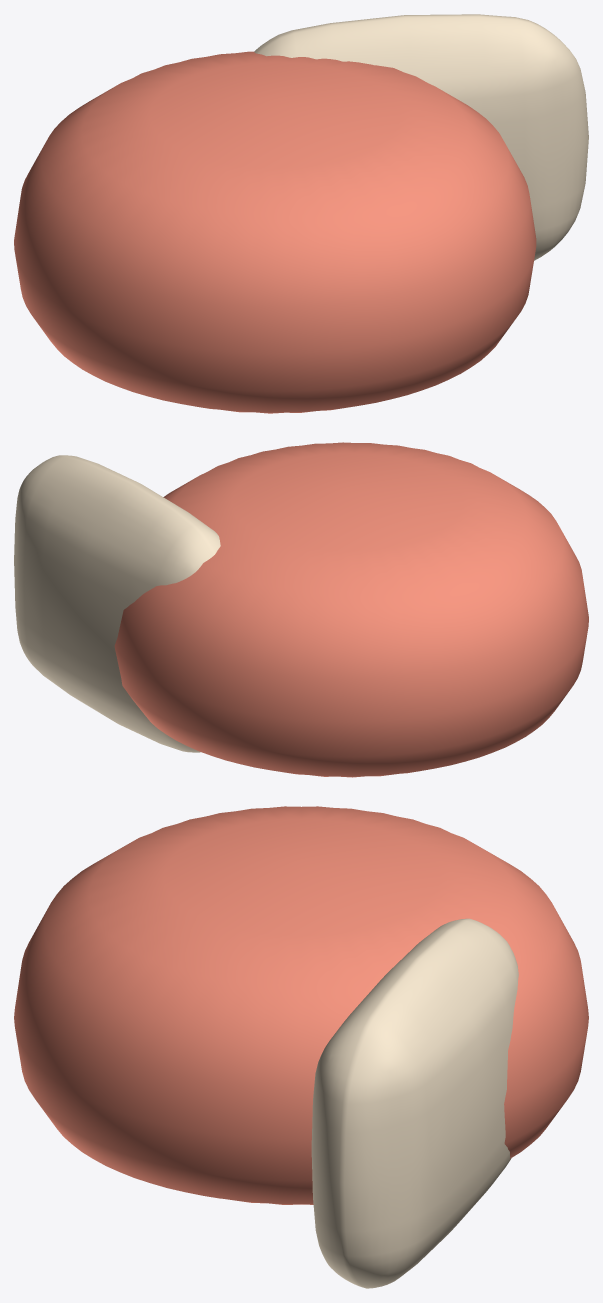
The model's file is cushions_b.glb.
3 views of the same model, one above another, from view 1: azimuth 30°, elevation 25°; view 2: azimuth 150°, elevation 25°; view 3: azimuth 270°, elevation 25° (orthographic). The views are drawn at different scales.
Parts seen in each view (by area): view 1: body; view 2: body; view 3: body.
Boxes of the visible parts, <box> form: body: <box>14,14,588,413</box>; body: <box>14,442,588,777</box>; body: <box>14,806,588,1288</box>.
Bounding box in the file's own units: 0.488 × 0.22 × 0.395.
